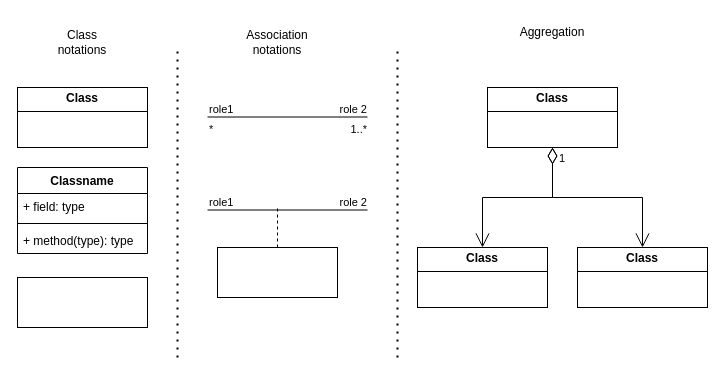
Some shapes in this 725 by 376 pixel diagram are drawn without their labels. Here are the shapes that lost their labels. From the top down, the box of each, then its label:
(216, 246, 338, 298): «Association Class» Name
(16, 276, 148, 328): «class» Name
